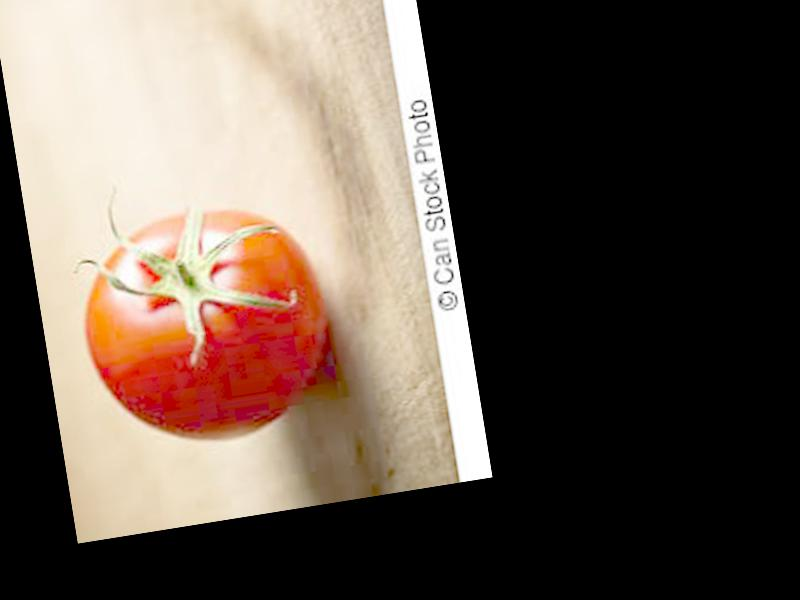Tomato: (72, 191, 341, 456)
